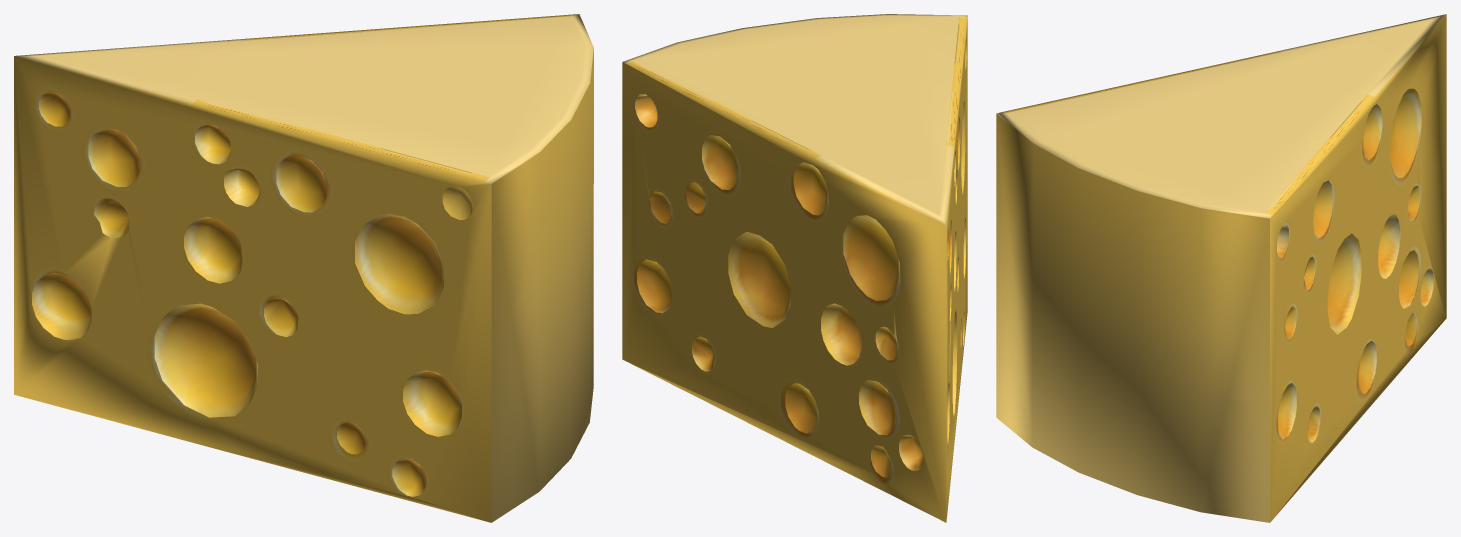
Rendered from cheesBite.fbx.
3 views of the same model, side by side, from view 1: azimuth 30°, elevation 25°; view 2: azimuth 150°, elevation 25°; view 3: azimuth 270°, elevation 25° (orthographic). The views are drawn at different scales.
Parts seen in each view (by area): view 1: cheesEaten, cheesP_01, cheesP_02, cheesP_04, cheesP_03; view 2: cheesEaten, cheesP_01, cheesP_02, cheesP_04, cheesP_03; view 3: cheesP_01, cheesP_04, cheesEaten, cheesP_02, cheesP_03.
Part boxes in pixels (bbox=[...]): cheesEaten: bbox=[14, 30, 593, 467]; cheesP_01: bbox=[362, 14, 593, 330]; cheesP_02: bbox=[14, 35, 309, 246]; cheesP_04: bbox=[284, 266, 593, 522]; cheesP_03: bbox=[14, 242, 232, 453]; cheesEaten: bbox=[622, 65, 967, 463]; cheesP_01: bbox=[622, 14, 967, 219]; cheesP_02: bbox=[784, 98, 959, 366]; cheesP_04: bbox=[622, 181, 967, 447]; cheesP_03: bbox=[829, 372, 955, 522]; cheesP_01: bbox=[996, 89, 1340, 346]; cheesP_04: bbox=[996, 285, 1365, 522]; cheesEaten: bbox=[996, 74, 1446, 411]; cheesP_02: bbox=[1176, 14, 1446, 203]; cheesP_03: bbox=[1382, 182, 1446, 391].
Size of the model in its own units: 289 by 202 by 268.
